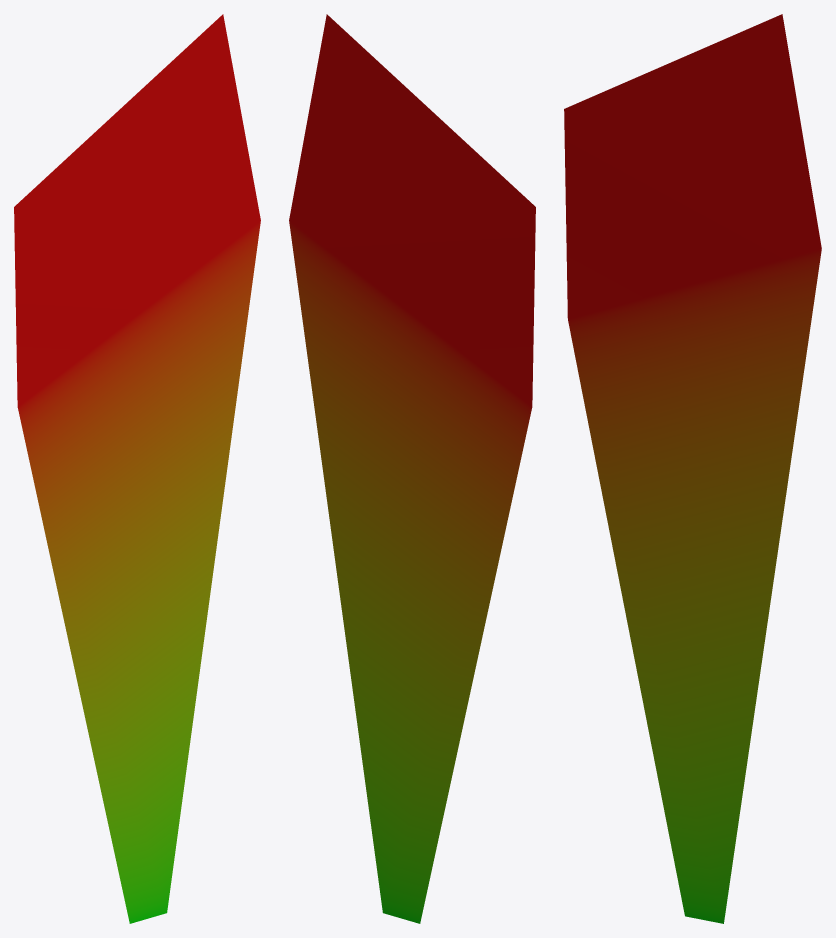
Rendered from Chamomile_LOD4_Var7.fbx.
3 renders of one model, left to right at view 1: azimuth 30°, elevation 25°; view 2: azimuth 150°, elevation 25°; view 3: azimuth 330°, elevation 25°, orthographic. The views are drawn at different scales.
Visible parts, largest first — view 1: _8jnw_Var7_LOD4; view 2: _8jnw_Var7_LOD4; view 3: _8jnw_Var7_LOD4.
Boxes of the visible parts, bbox=[...] form: _8jnw_Var7_LOD4: bbox=[14, 14, 260, 923]; _8jnw_Var7_LOD4: bbox=[289, 14, 535, 923]; _8jnw_Var7_LOD4: bbox=[564, 14, 821, 923].
Size of the model in its own units: 14.49 by 49.74 by 5.93e-06.
